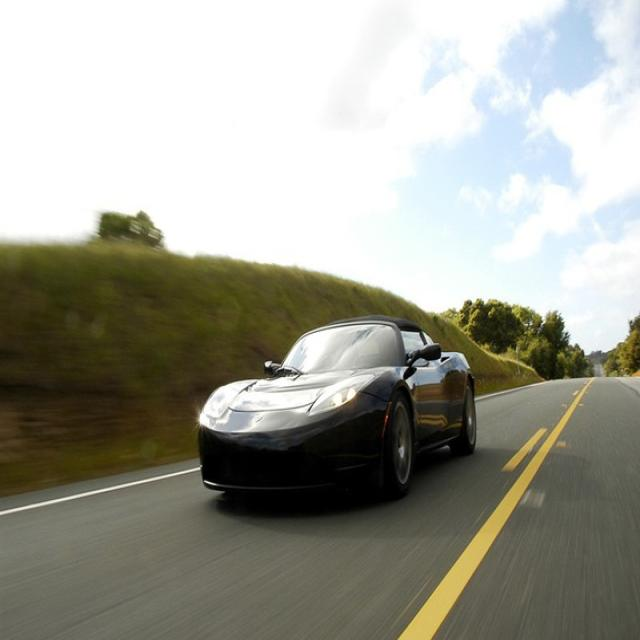front_bumper: (196, 410, 380, 494)
front_glass: (278, 323, 404, 370)
front_left_side_door: (411, 321, 449, 447)
front_left_side_light: (308, 375, 374, 414)
front_left_side_mirror: (406, 341, 443, 368)
front_right_side_light: (204, 393, 225, 420)
front_right_side_mirror: (263, 359, 281, 377)
wheel: (379, 392, 414, 498), (449, 384, 477, 456)
